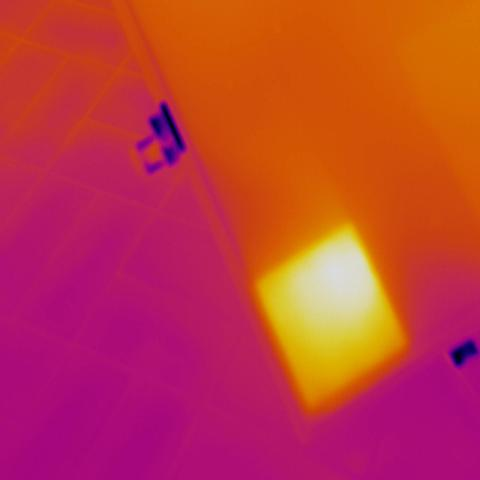fault: (245, 218, 415, 418)
